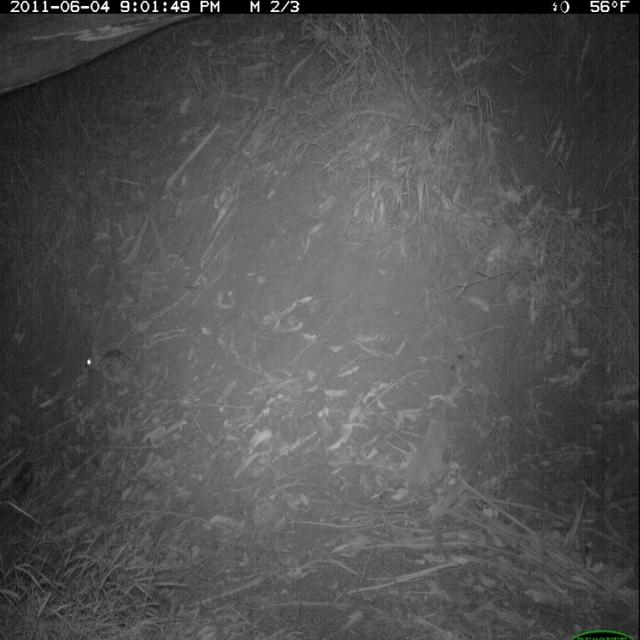rabbit: (79, 334, 159, 396)
